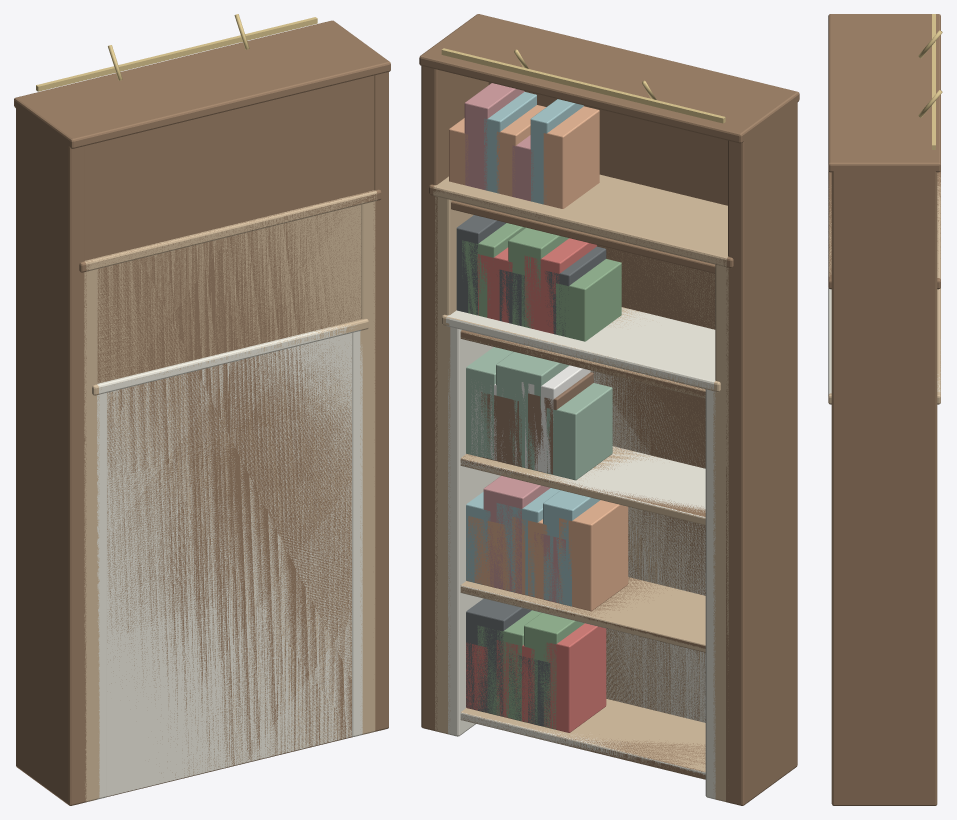
File: Gear09.fbx
The picture shows the model from 3 angles, left to right: view 1: azimuth 30°, elevation 25°; view 2: azimuth 150°, elevation 25°; view 3: azimuth 270°, elevation 25°; orthographic projection. The views are drawn at different scales.
Visible parts, largest first — view 1: Gear09_V8_Walnut, Gear09_V10_Walnut, Gear09_V1_Ivory, Gear09_V6_Oak, Gear09_V2_Ivory, Gear09_V5_Oak, Gear09_V4_Oak, Gear09_V3_Oak, Gear09_V9_Walnut, Gear09_V7_Walnut, Gear09_V10_Brass, Gear09_V9_Brass; view 2: Gear09_V10_Walnut, Gear09_V8_Walnut, Gear09_V1_Ivory, Gear09_V9_Walnut, Gear09_V4_Oak, Gear09_V2_Ivory, Gear09_V5_Oak, Gear09_V6_Oak, Gear09_V3_Oak, Gear09_V7_Walnut, Gear09_V5_Apricot, Gear09_V8_Apricot (+54 smaller); view 3: Gear09_V10_Walnut, Gear09_V8_Walnut, Gear09_V9_Walnut, Gear09_V10_Brass, Gear09_V7_Walnut, Gear09_V3_Oak, Gear09_V1_Ivory, Gear09_V4_Oak, Gear09_V6_Oak.
Part boxes in pixels (x1,y1,x2,y2): Gear09_V8_Walnut: (23, 22, 382, 803); Gear09_V10_Walnut: (14, 20, 390, 805); Gear09_V1_Ivory: (100, 324, 360, 798); Gear09_V6_Oak: (84, 190, 377, 801); Gear09_V2_Ivory: (97, 327, 362, 799); Gear09_V5_Oak: (87, 192, 373, 801); Gear09_V4_Oak: (90, 192, 370, 800); Gear09_V3_Oak: (92, 319, 368, 799); Gear09_V9_Walnut: (20, 21, 386, 804); Gear09_V7_Walnut: (79, 189, 381, 803); Gear09_V10_Brass: (36, 14, 317, 91); Gear09_V9_Brass: (40, 17, 313, 90); Gear09_V10_Walnut: (419, 14, 799, 805); Gear09_V8_Walnut: (427, 15, 789, 804); Gear09_V1_Ivory: (449, 307, 715, 798); Gear09_V9_Walnut: (424, 14, 792, 804); Gear09_V4_Oak: (439, 174, 727, 800); Gear09_V2_Ivory: (446, 310, 715, 799); Gear09_V5_Oak: (436, 175, 727, 801); Gear09_V6_Oak: (433, 176, 728, 801); Gear09_V3_Oak: (442, 307, 720, 799); Gear09_V7_Walnut: (429, 184, 733, 803); Gear09_V5_Apricot: (481, 503, 628, 611); Gear09_V8_Apricot: (456, 105, 605, 607); Gear09_V10_Walnut: (828, 14, 940, 805); Gear09_V8_Walnut: (828, 17, 940, 159); Gear09_V9_Walnut: (828, 15, 940, 161); Gear09_V10_Brass: (918, 14, 942, 149); Gear09_V7_Walnut: (828, 171, 940, 289); Gear09_V3_Oak: (828, 288, 940, 404); Gear09_V1_Ivory: (828, 288, 940, 392); Gear09_V4_Oak: (828, 184, 940, 276); Gear09_V6_Oak: (937, 174, 940, 279).
Bounding box in the file's own units: 101 × 210 × 32.48.
